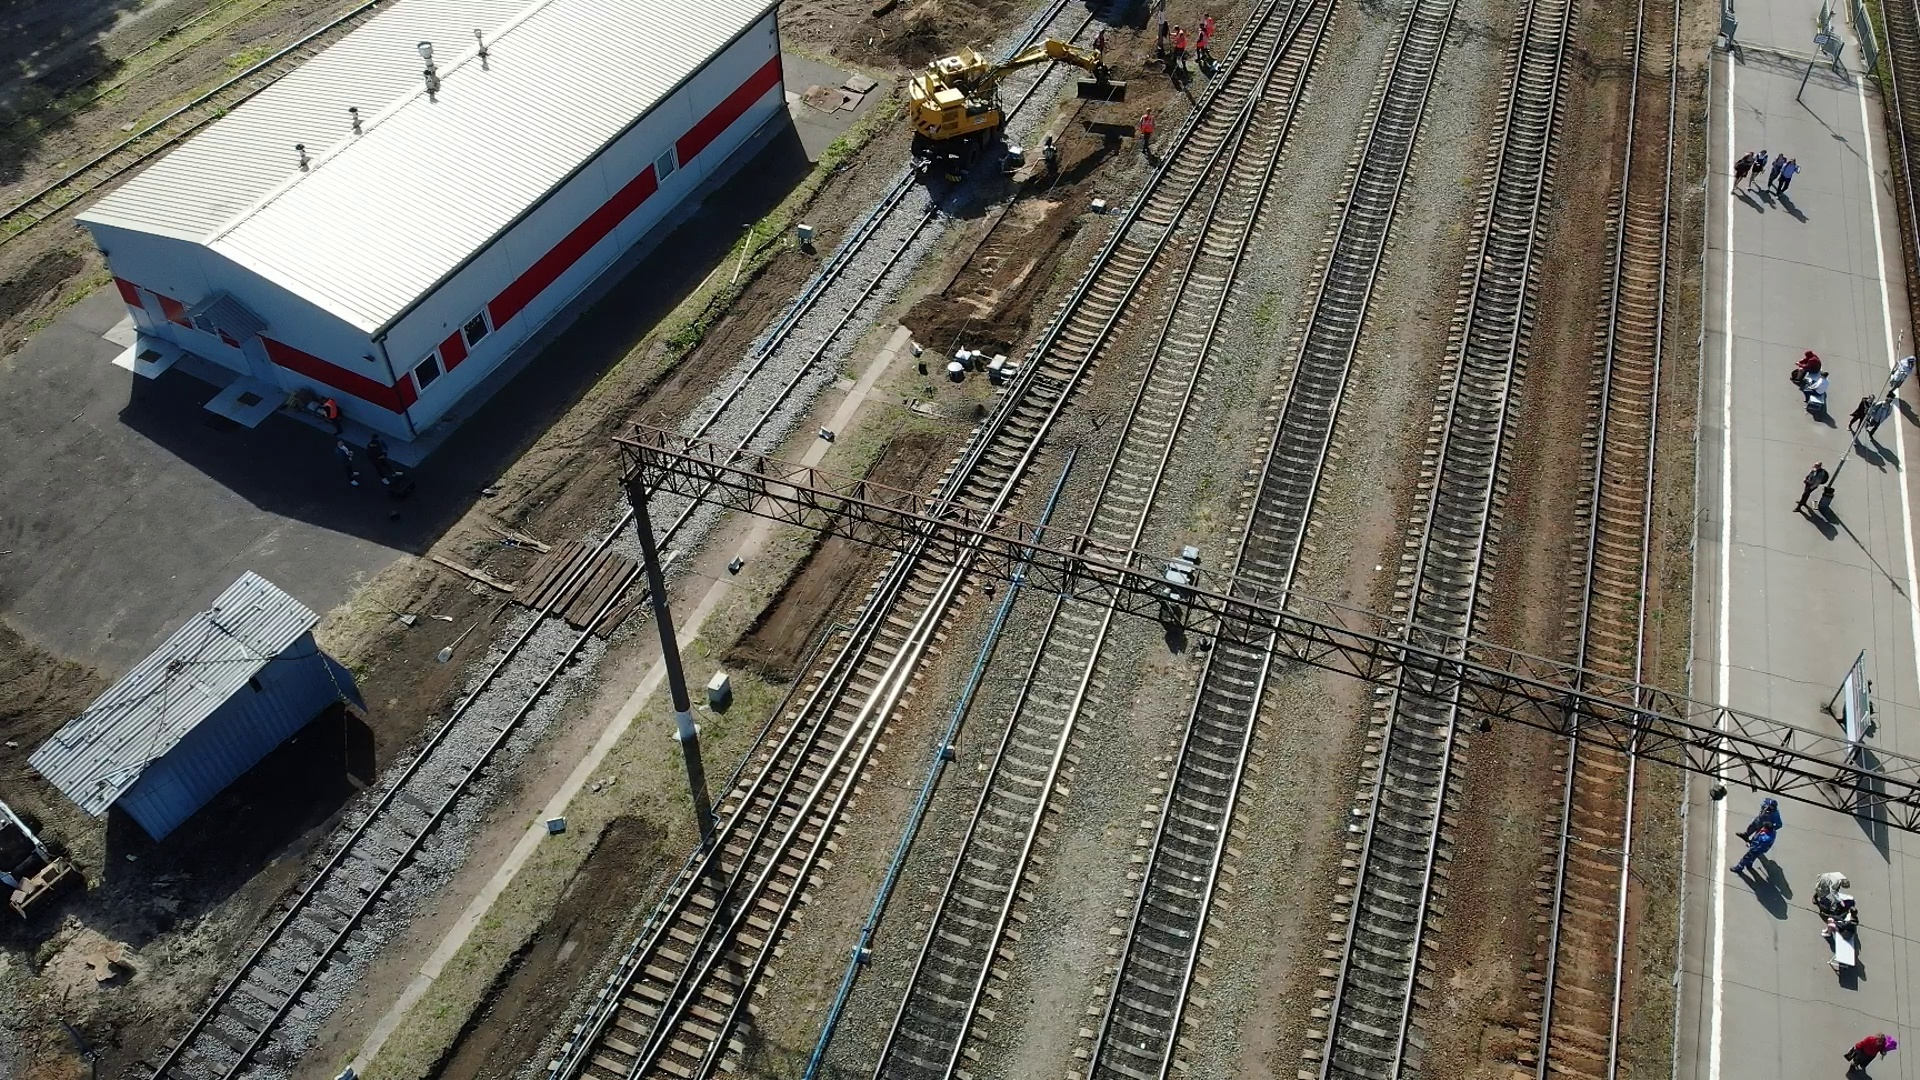kjtv: (901, 50, 1019, 186)
